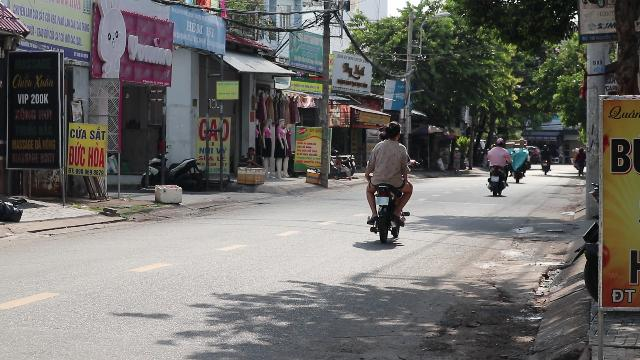motorcyclist: (362, 120, 414, 244)
nohelmet: (384, 120, 402, 140)
